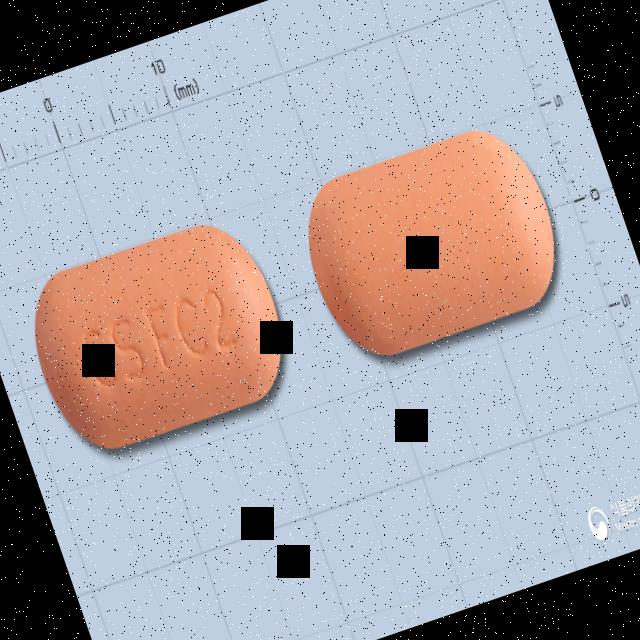Kivexa: (12, 207, 306, 466)
